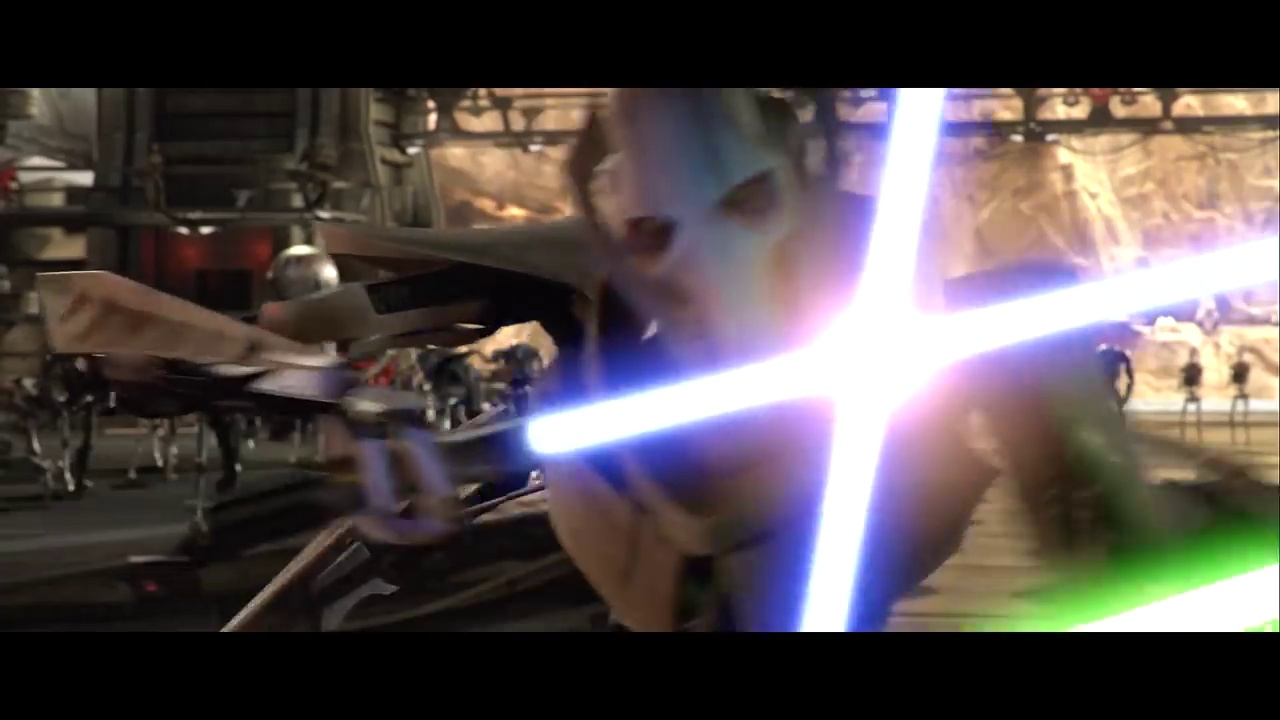lightsaber: (209, 202, 1280, 538)
